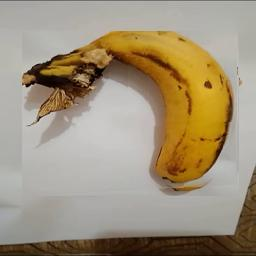Banana Semifresh: (23, 31, 240, 196)
